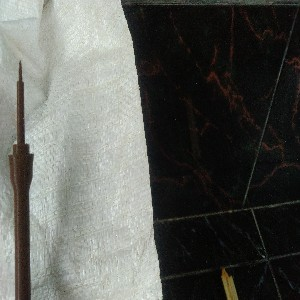solder: (7, 59, 35, 300)
